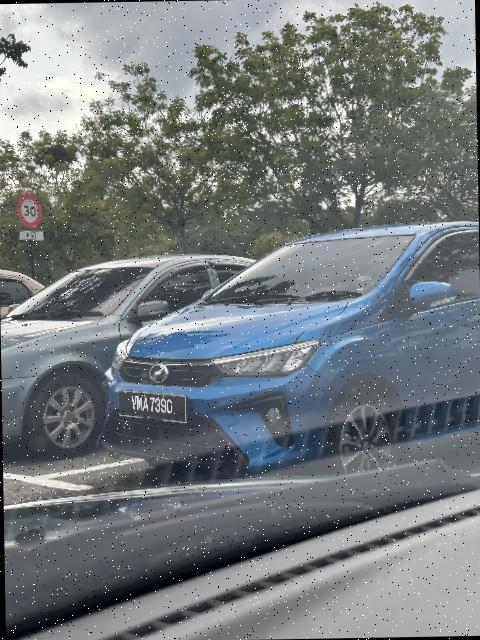License_Plate: (116, 390, 190, 430)
VMA7390: (116, 390, 190, 430)
car: (91, 210, 480, 493), (1, 243, 281, 468)
